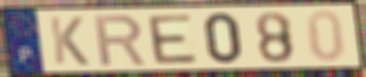0: (304, 8, 348, 64), (202, 11, 244, 65)
8: (253, 10, 297, 64)
E: (145, 13, 201, 65)
K: (47, 15, 91, 68)
R: (92, 14, 149, 68)
